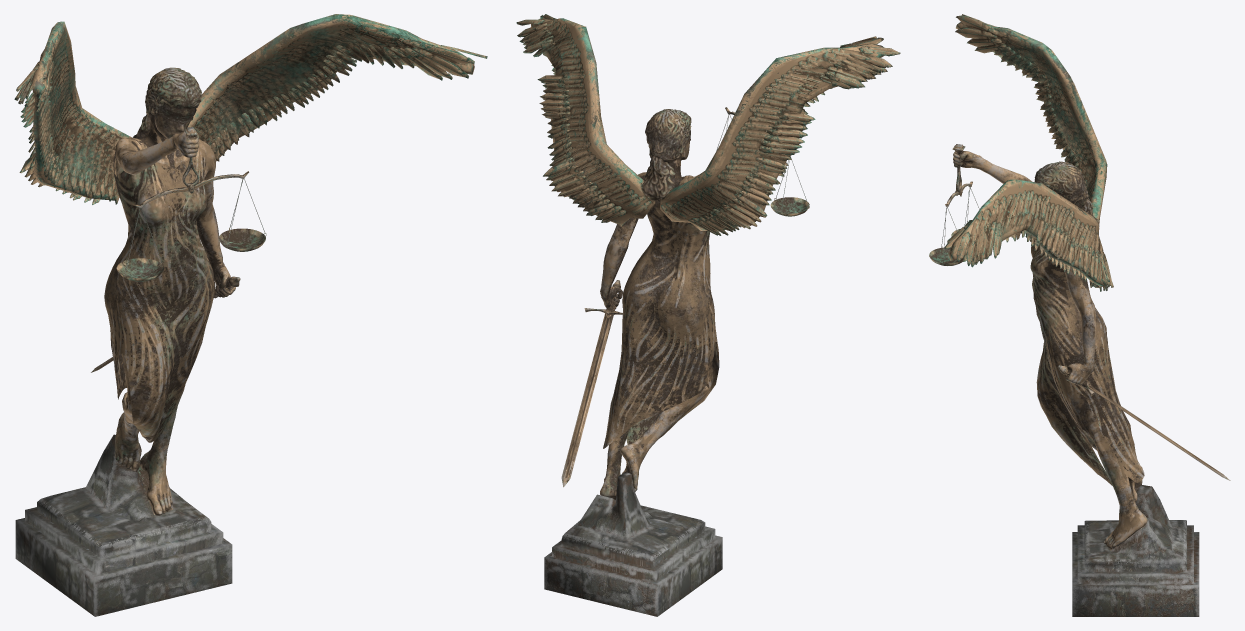
Rendered from angel_of_justice.glb.
3 views of the same model, side by side, from view 1: azimuth 30°, elevation 25°; view 2: azimuth 150°, elevation 25°; view 3: azimuth 270°, elevation 25° (orthographic). The views are drawn at different scales.
Visible parts, largest first — view 1: Cube.001_Cube.005_0, Cube.005_Cube.008_1; view 2: Cube.001_Cube.005_0, Cube.005_Cube.008_1; view 3: Cube.001_Cube.005_0, Cube.005_Cube.008_1.
Part boxes in pixels (x1,y1,x2,y2): Cube.001_Cube.005_0: [15, 67, 266, 616]; Cube.005_Cube.008_1: [14, 14, 487, 204]; Cube.001_Cube.005_0: [544, 107, 809, 616]; Cube.005_Cube.008_1: [516, 14, 900, 235]; Cube.001_Cube.005_0: [929, 144, 1230, 616]; Cube.005_Cube.008_1: [944, 14, 1113, 291].
Bounding box in the file's own units: 1.83 × 2.34 × 1.27.
Materials: 2 (2 with a texture image).
